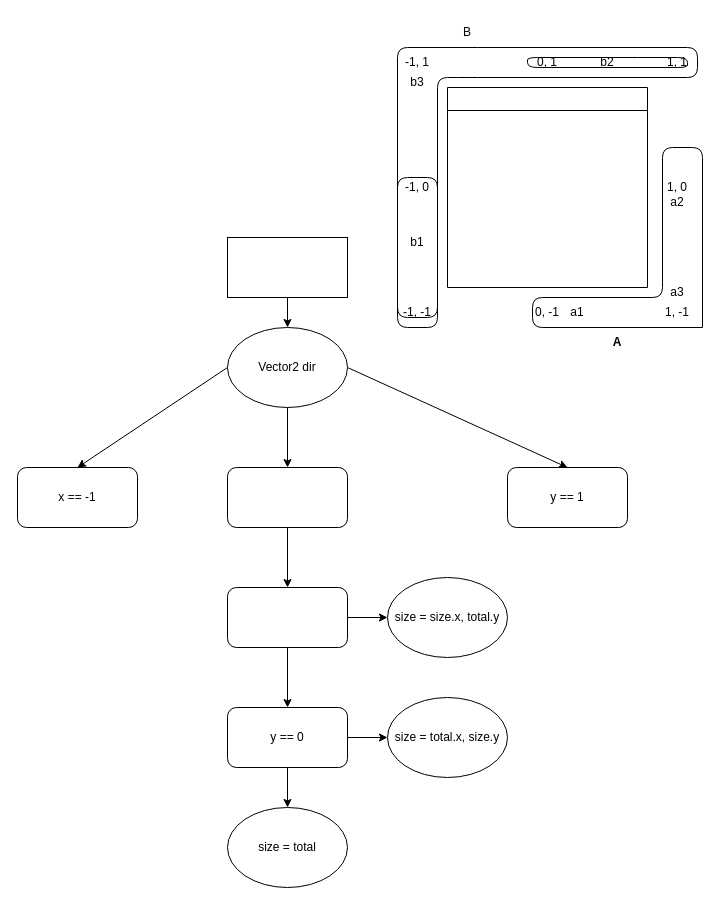
Some shapes in this 725 by 905 pixel diagram are drawn without their labels. Each missing label, with the box of its shape:
#sizeChange: (226, 236, 348, 298)
Program: (446, 86, 648, 288)
x != -1 && y != 1: (226, 466, 348, 528)
x == 0: (226, 586, 348, 648)
